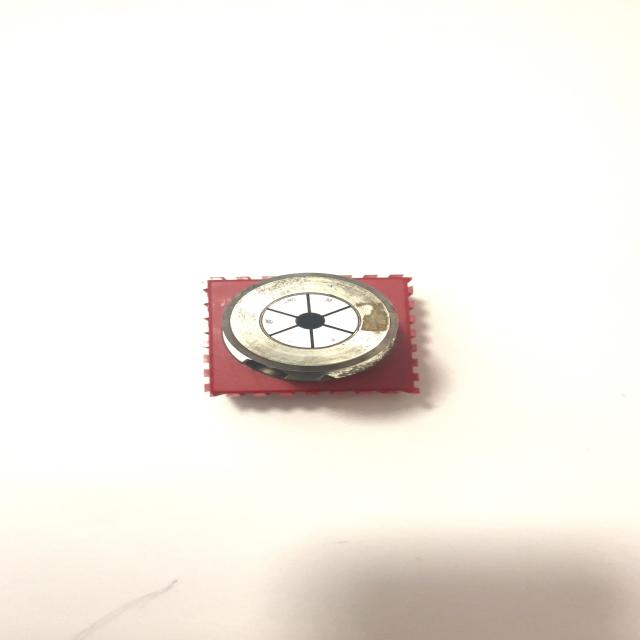Filled_Slot: (221, 273, 398, 381)
